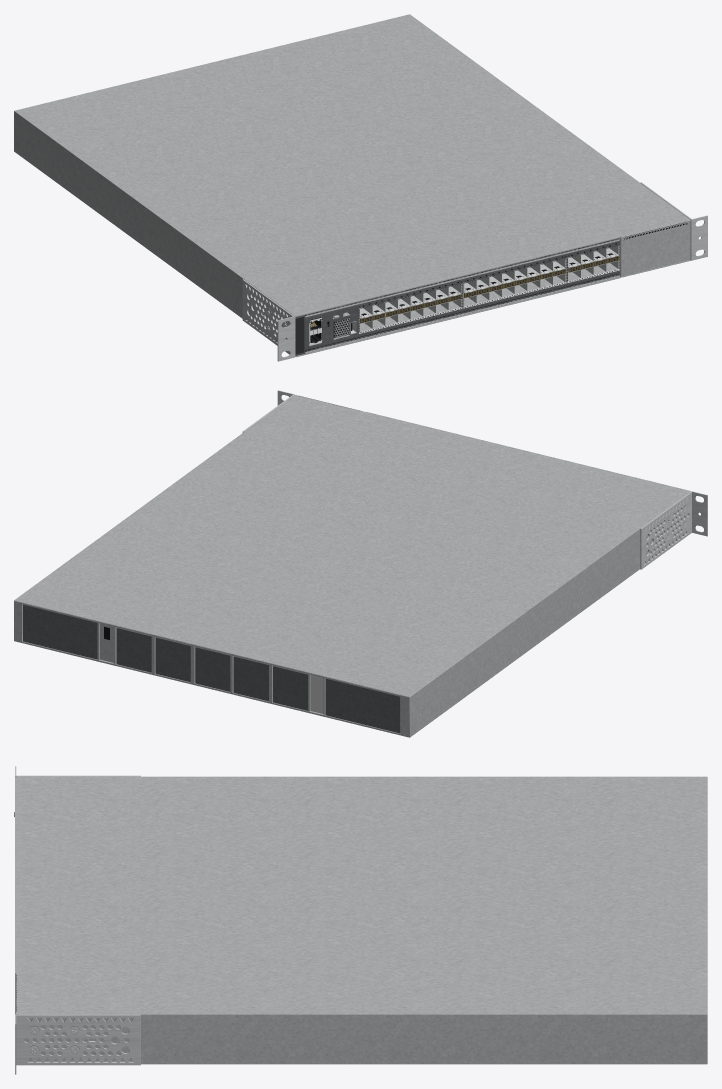
3 views of the same model, one above another, from view 1: azimuth 30°, elevation 25°; view 2: azimuth 150°, elevation 25°; view 3: azimuth 270°, elevation 25° (orthographic). The views are drawn at different scales.
Visible parts, largest first — view 1: Shell, Port_Cages, Rack_Ears, empty:Network Module, Front_Details, Front_Lip; view 2: Shell, Rack_Ears, empty:PS-0, empty:PS-1, empty:FAN 0, empty:FAN 1, empty:FAN 3, empty:FAN 2, empty:FAN 4, Rear_Details; view 3: Shell, Rack_Ears.
Part boxes in pixels (<box>): Shell: <box>14,14,689,355</box>; Port_Cages: <box>359,245,619,333</box>; Rack_Ears: <box>242,182,707,361</box>; empty:Network Module: <box>621,219,690,277</box>; Front_Details: <box>295,238,619,354</box>; Front_Lip: <box>295,236,621,357</box>; Shell: <box>14,395,689,737</box>; Rack_Ears: <box>242,390,707,569</box>; empty:PS-0: <box>325,678,400,733</box>; empty:PS-1: <box>23,604,97,659</box>; empty:FAN 0: <box>273,666,308,710</box>; empty:FAN 1: <box>233,656,268,701</box>; empty:FAN 3: <box>155,637,190,682</box>; empty:FAN 2: <box>195,647,230,691</box>; empty:FAN 4: <box>116,627,151,672</box>; Rear_Details: <box>100,623,323,713</box>; Shell: <box>16,776,707,1064</box>; Rack_Ears: <box>15,766,140,1074</box>.
Size of the model in its own units: 0.4826 by 0.044 by 0.5484.
27 materials, 6 textured.
